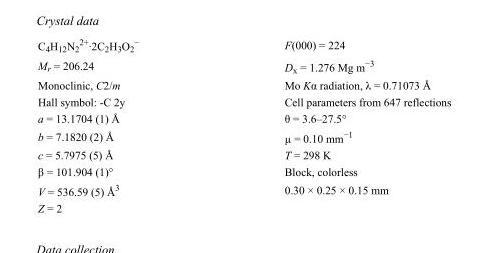table: (37, 36, 450, 213)
table column: (211, 36, 450, 213), (37, 36, 211, 213)
table row: (37, 55, 450, 76), (37, 126, 450, 146), (37, 179, 450, 199), (37, 36, 450, 55), (37, 76, 450, 93), (37, 109, 450, 126), (37, 162, 450, 179), (37, 93, 450, 109), (37, 146, 450, 162), (37, 199, 450, 213)
